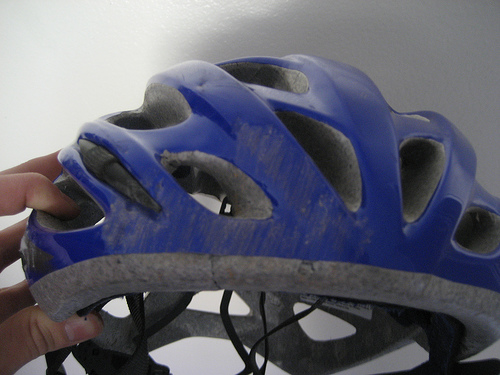helmet: (35, 68, 484, 335)
